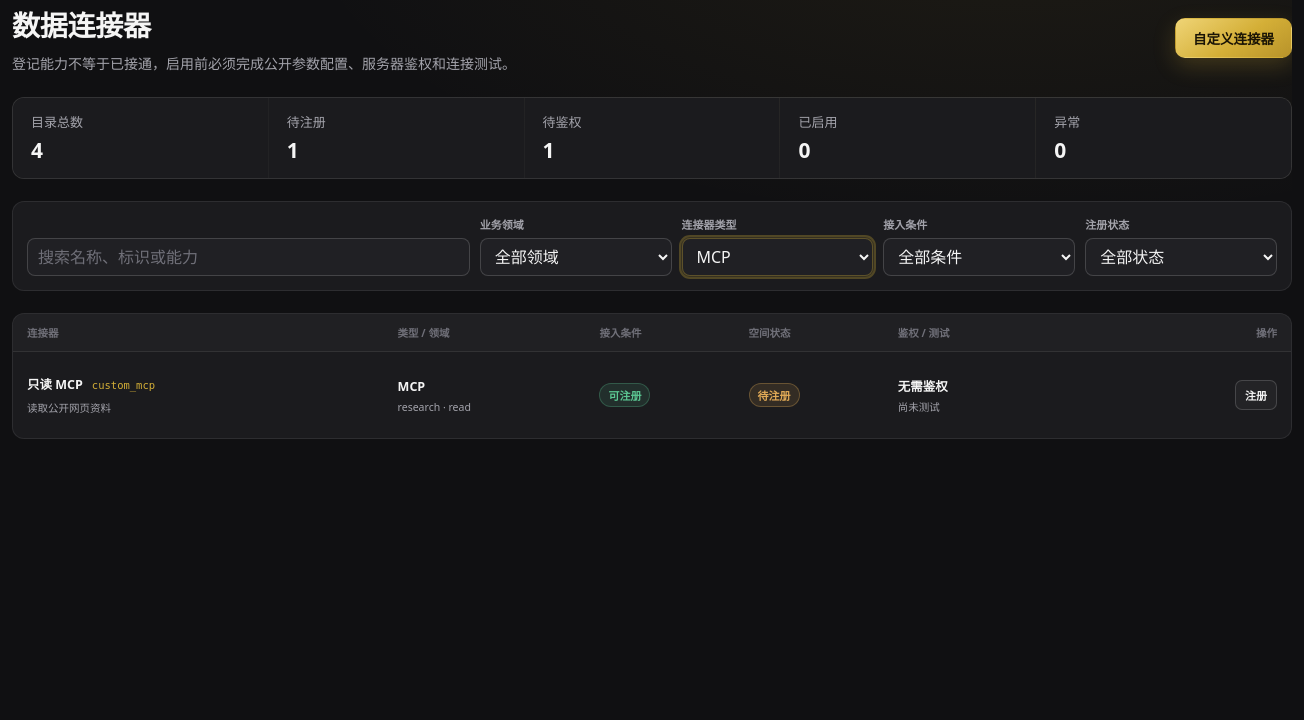
Test: DataConnectorRegistry › filters the catalog by query, domain, kind, availability, and registration status
The width and height of the screenshot is (1304, 720).
Earlier steps of the test are not shown.
Expected: the text "只读 MCP" is shown, [27,374,83,393]
Expected: the text "和风天气" is not shown
Select "全部类型" in the dropdown labelled "连接器类型" at (777, 257), box [682,238,873,276]
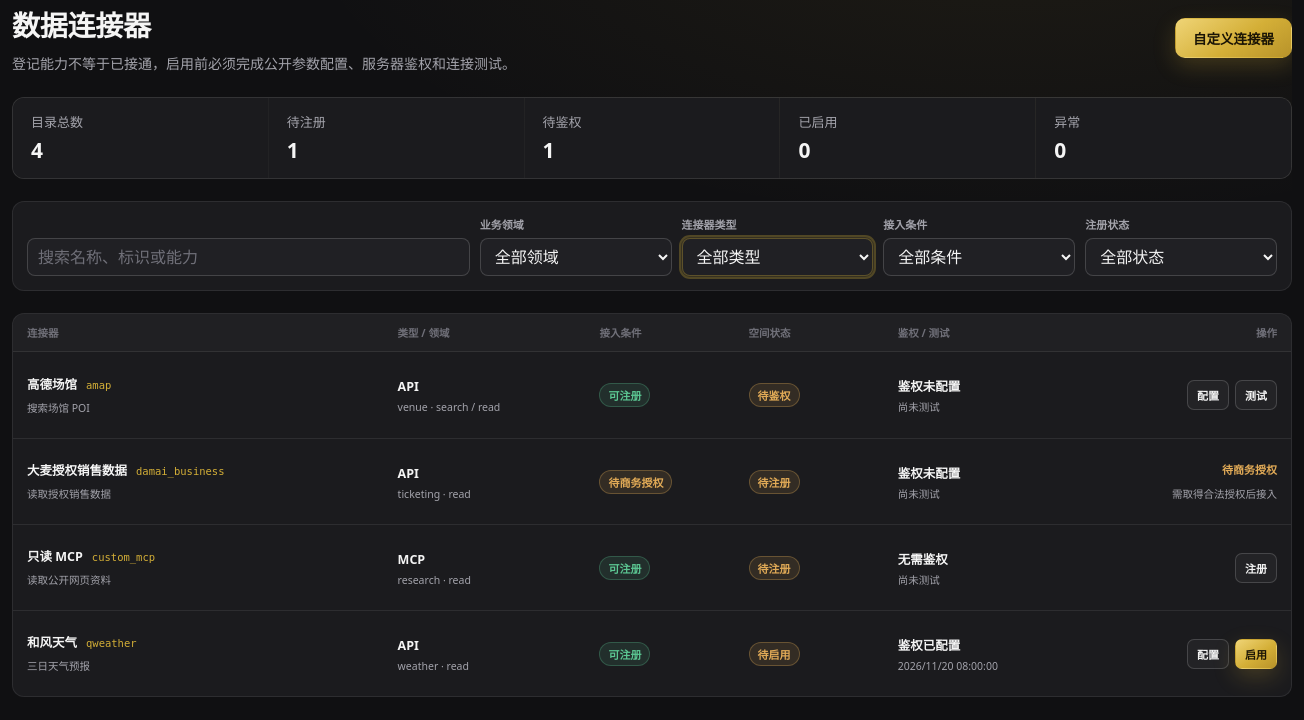
Select "ticketing" in the dropdown labelled "业务领域" at (576, 257), box [480,238,672,276]
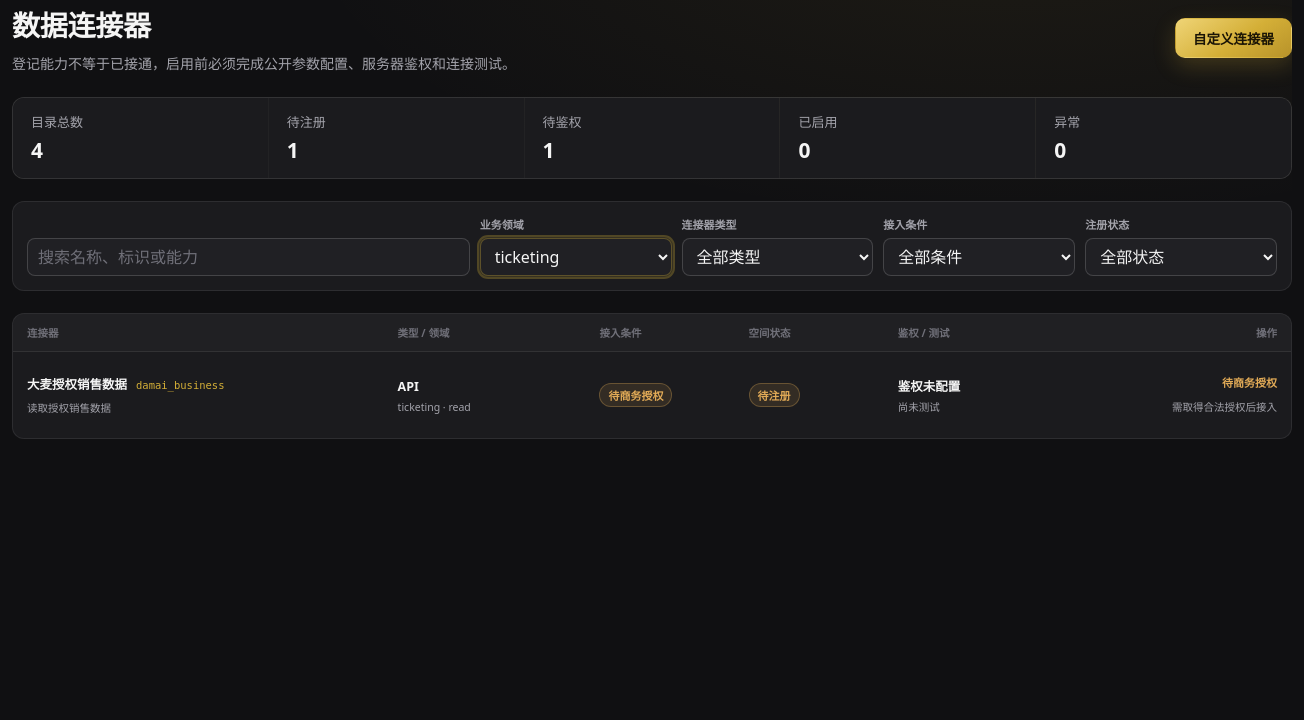
Now the text "大麦授权销售数据" is shown, box [27,374,127,393]
Select "全部领域" in the dropdown labelled "业务领域" at (576, 257), box [480,238,672,276]
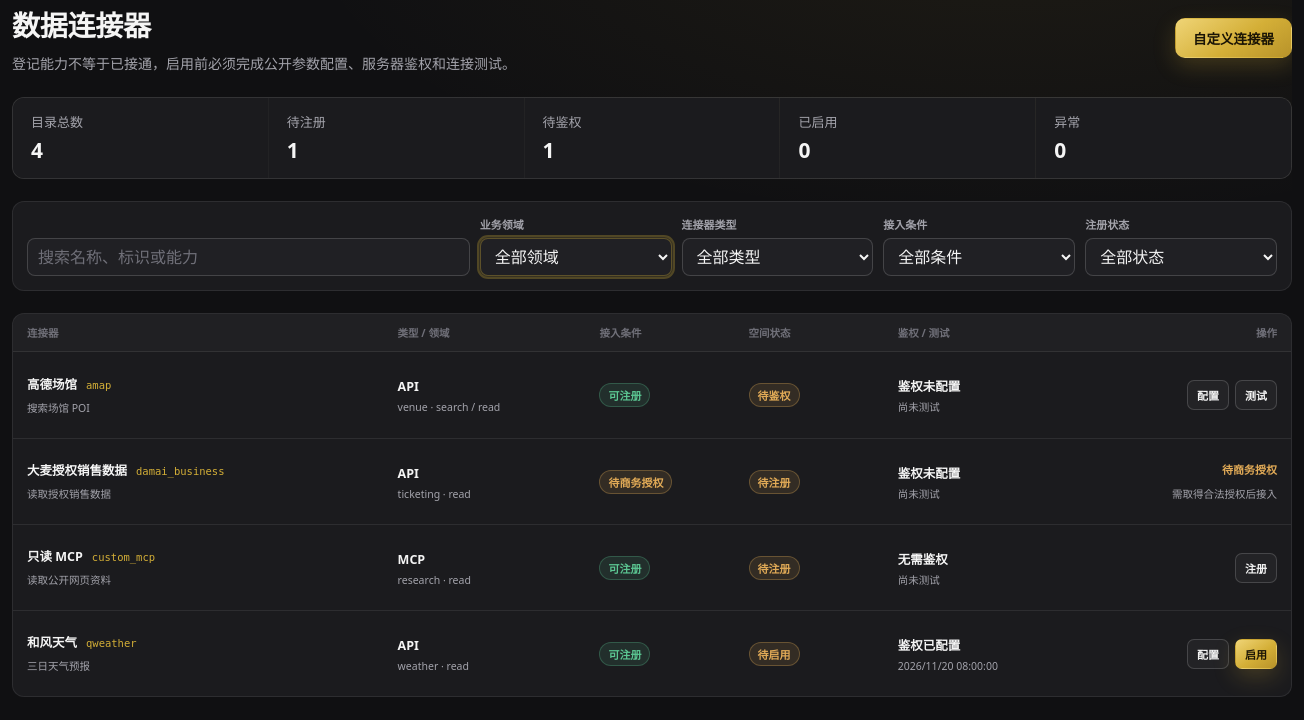
Select "可注册" in the dropdown labelled "接入条件" at (979, 257), box [883,238,1075,276]
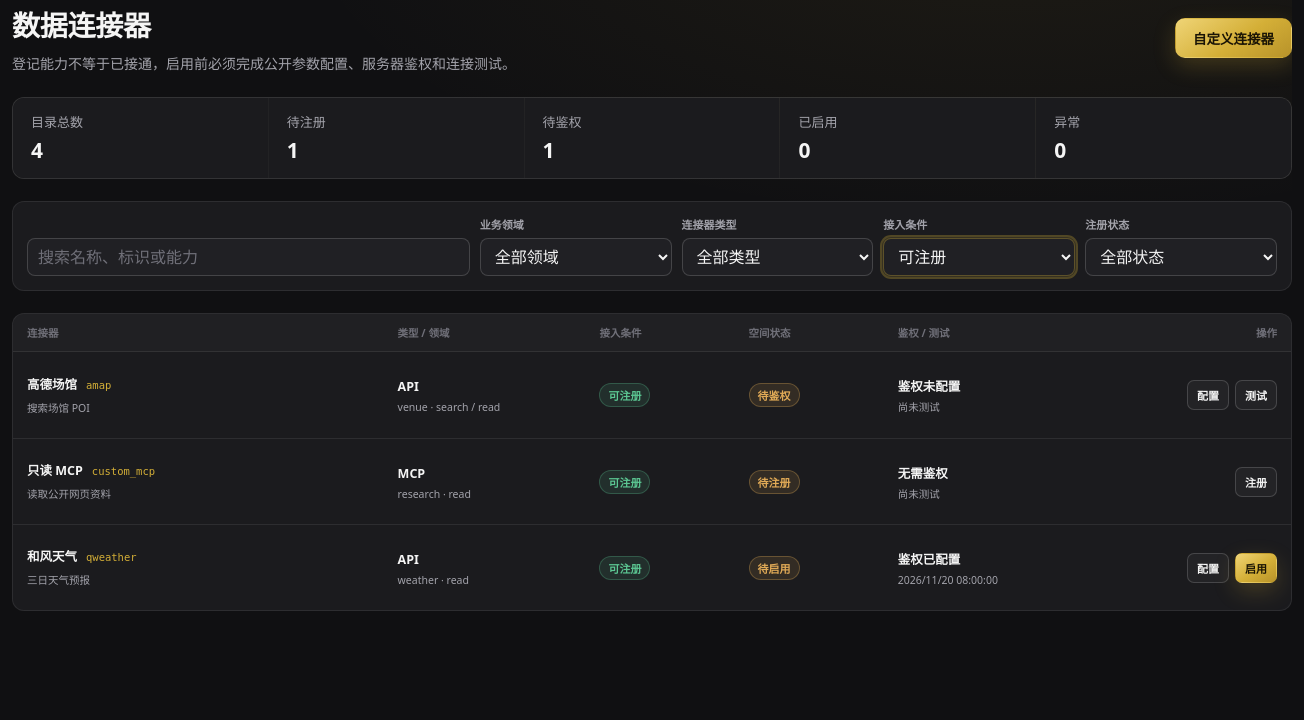
Now the text "大麦授权销售数据" is gone
Select "全部条件" in the dropdown labelled "接入条件" at (979, 257), box [883,238,1075,276]
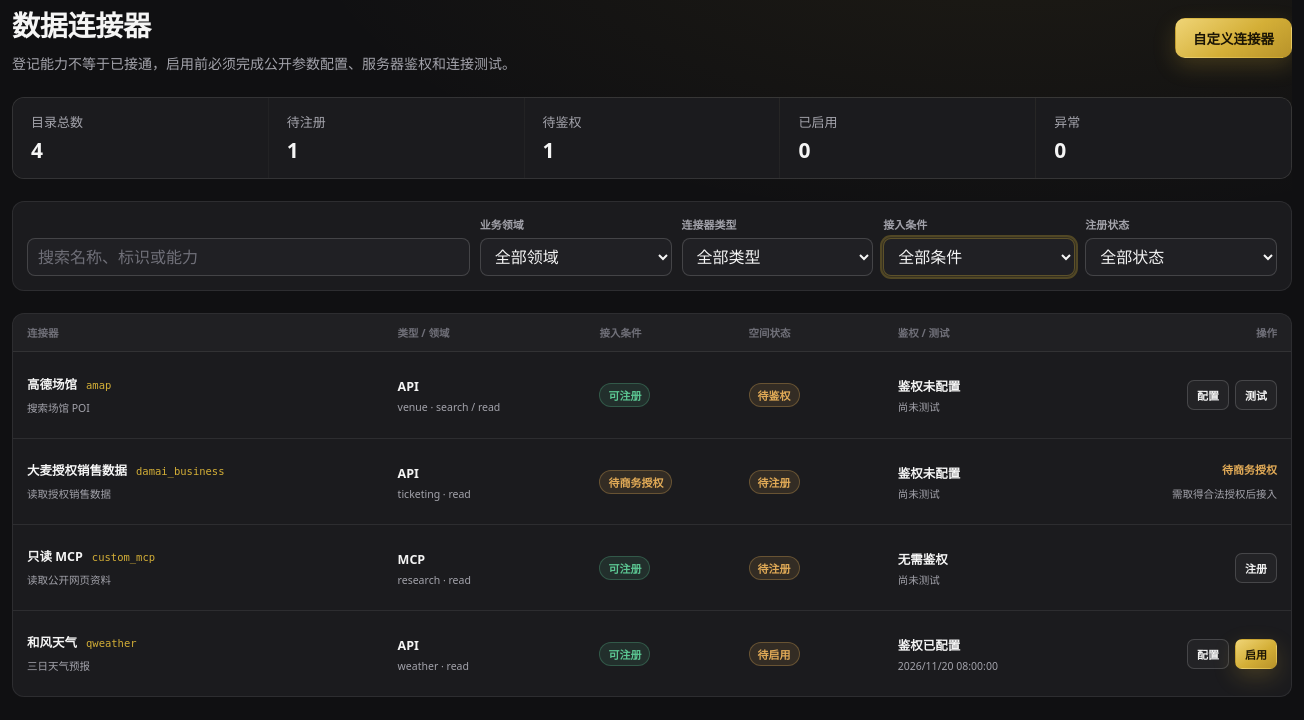
Select "待启用" in the dropdown labelled "注册状态" at (1181, 257), box [1085,238,1277,276]
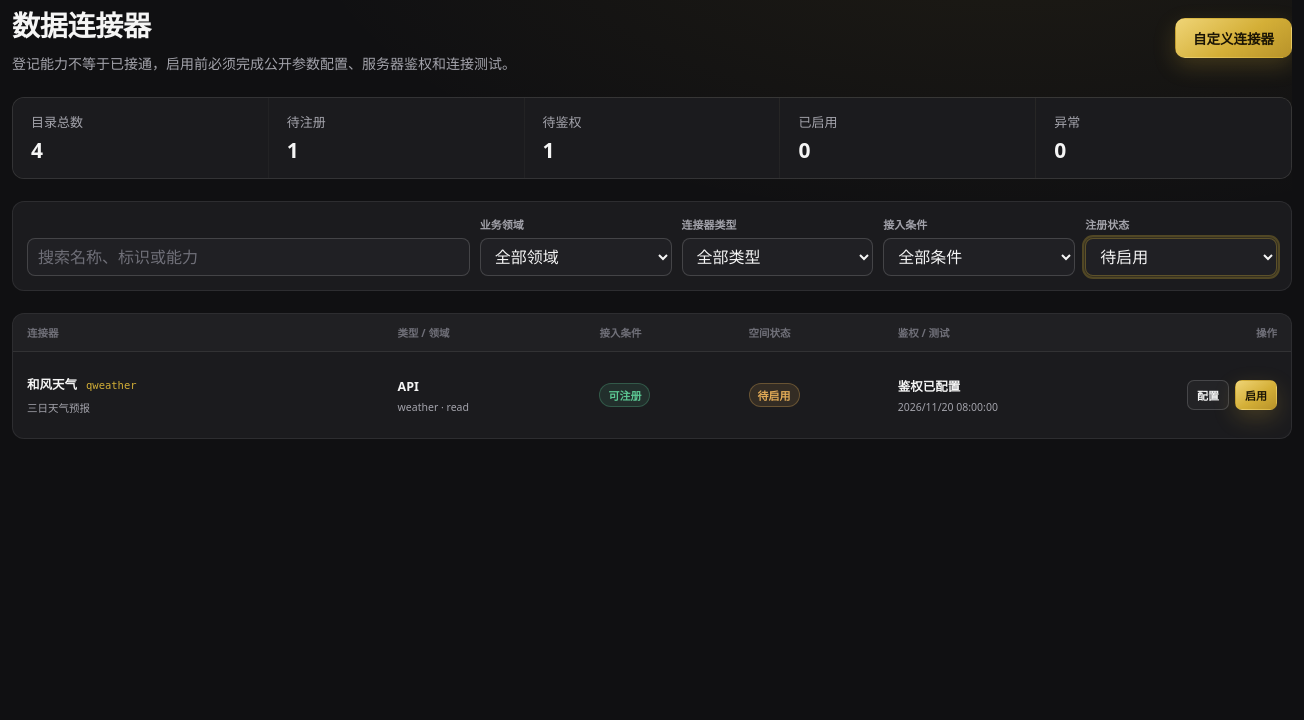
Now the text "和风天气" is shown, box [27,374,77,393]
Now the text "高德场馆" is gone
